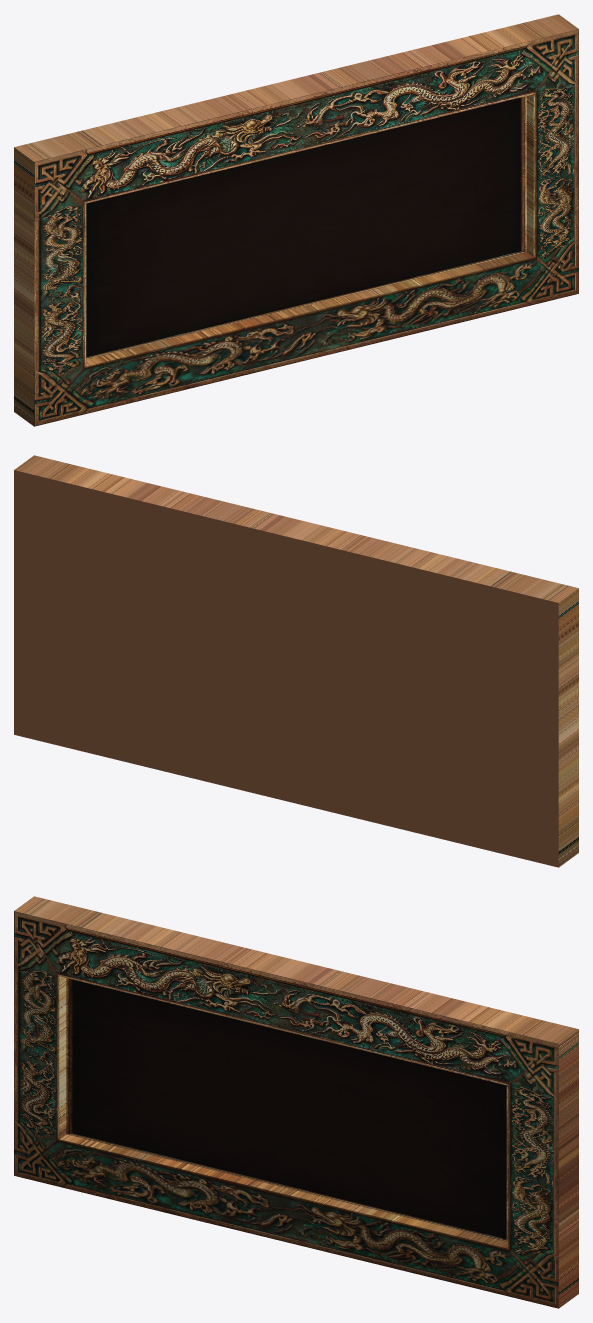
Rendered from panel_free.glb.
3 views of the same model, one above another, from view 1: azimuth 30°, elevation 25°; view 2: azimuth 150°, elevation 25°; view 3: azimuth 330°, elevation 25° (orthographic).
Visible parts, largest first — view 1: panel_free; view 2: panel_free; view 3: panel_free.
Boxes of the visible parts, <box> form: panel_free: <box>14,14,578,426</box>; panel_free: <box>14,455,578,867</box>; panel_free: <box>14,896,578,1308</box>.
Bounding box in the file's own units: 0.56 × 0.26 × 0.042.
1 material, 1 textured.
